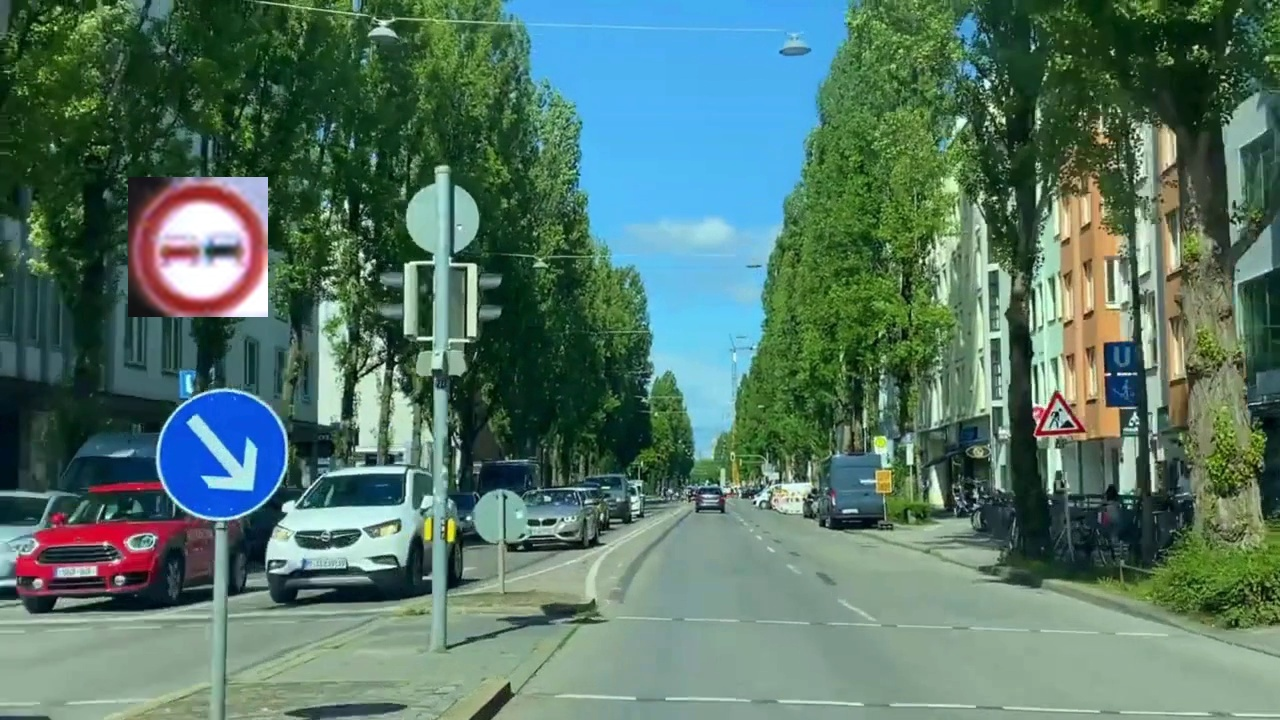No passing: (128, 177, 268, 317)
